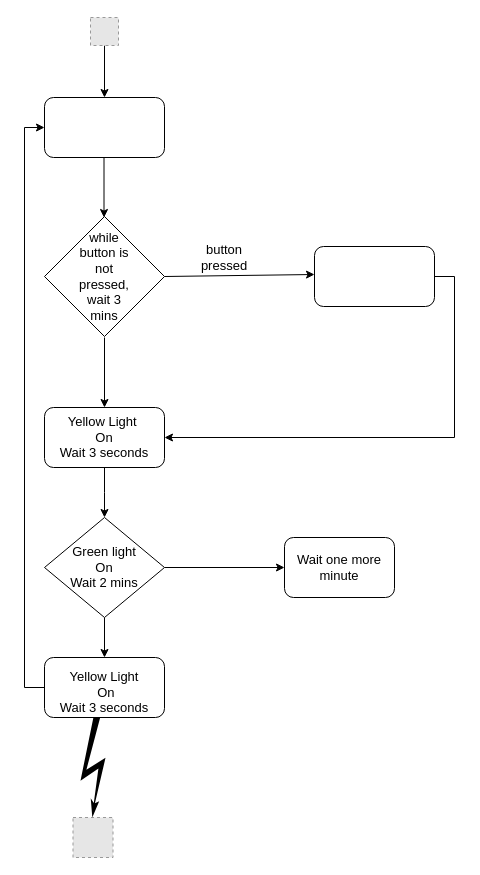
Image size: 480x875. Some labels were removed from this diagram. Grey dashed boxes stand in for pictures. The centre of each missing label's shape, as x and y in pixels:
"Red Light on" goes at (x=104, y=127).
"wait 2 seconds" goes at (x=374, y=276).
